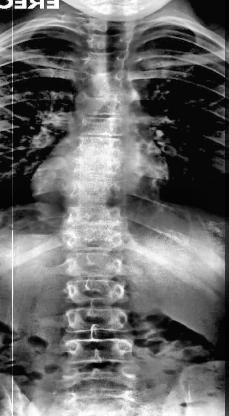Vertebrae: (58, 365, 138, 393), (62, 338, 134, 364), (63, 309, 135, 334), (66, 279, 130, 307), (63, 251, 123, 279), (64, 226, 122, 249), (66, 202, 126, 224), (77, 138, 131, 162), (77, 93, 135, 115), (73, 158, 129, 180), (72, 178, 126, 200), (78, 69, 128, 92), (76, 115, 130, 136), (79, 50, 125, 70), (82, 31, 126, 49)
